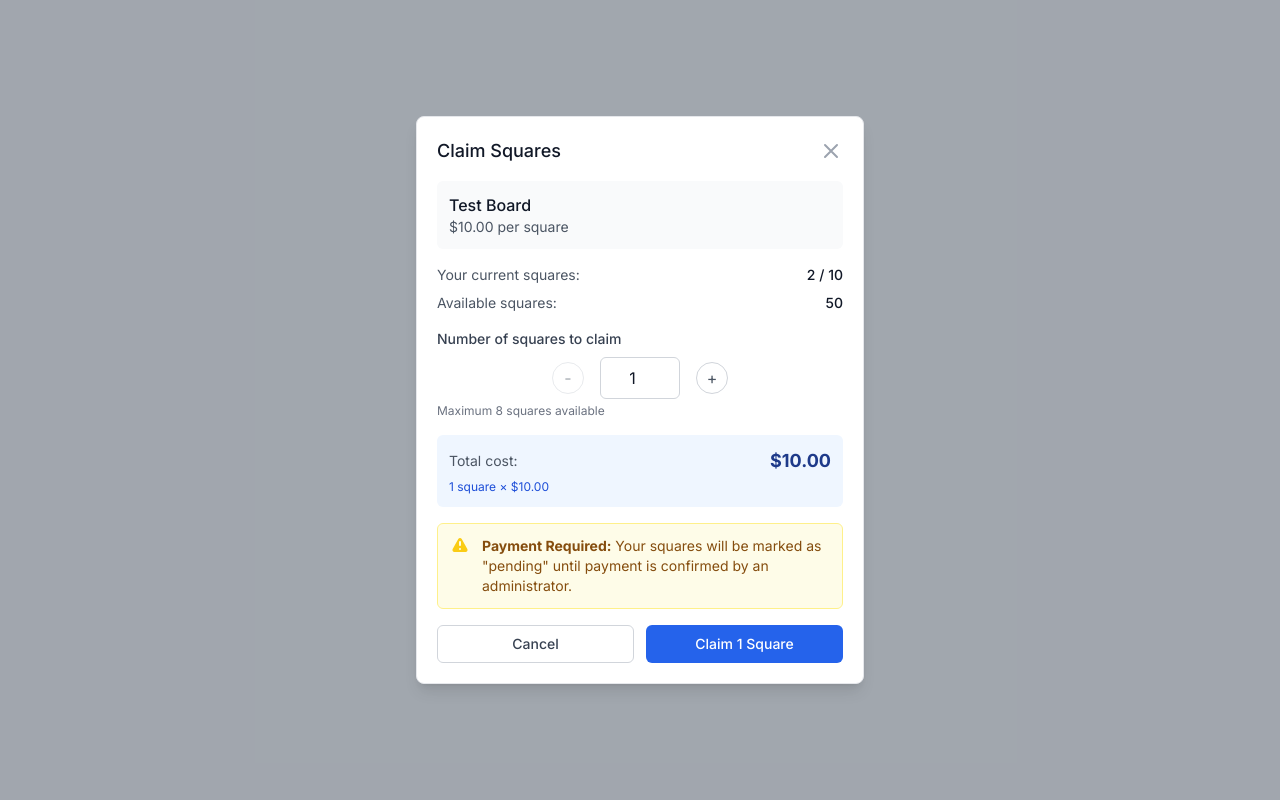
Scenario: SquareClaimModal › displays error message when claim fails
Click the button "Claim 1 Square": (744, 644) [646,625,843,663]
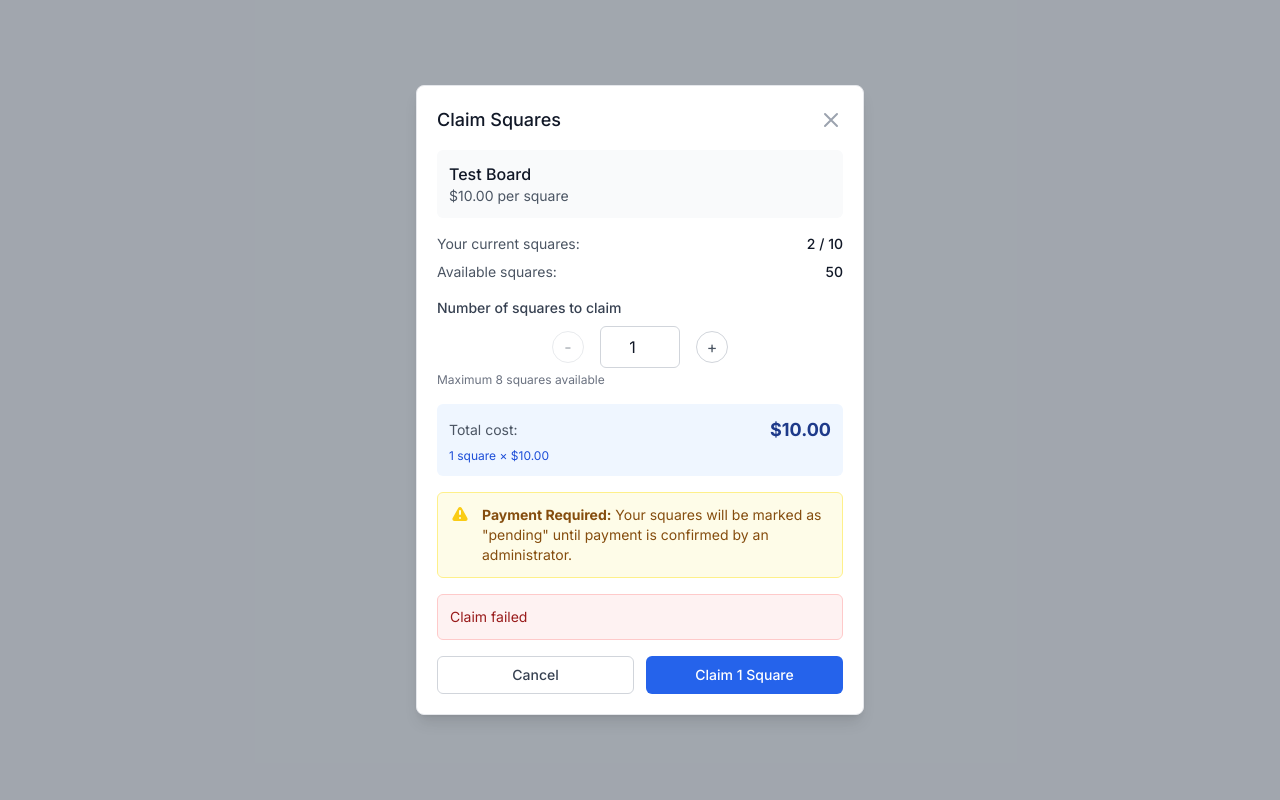
Now the text "Claim failed" is shown, box [450,608,527,625]
